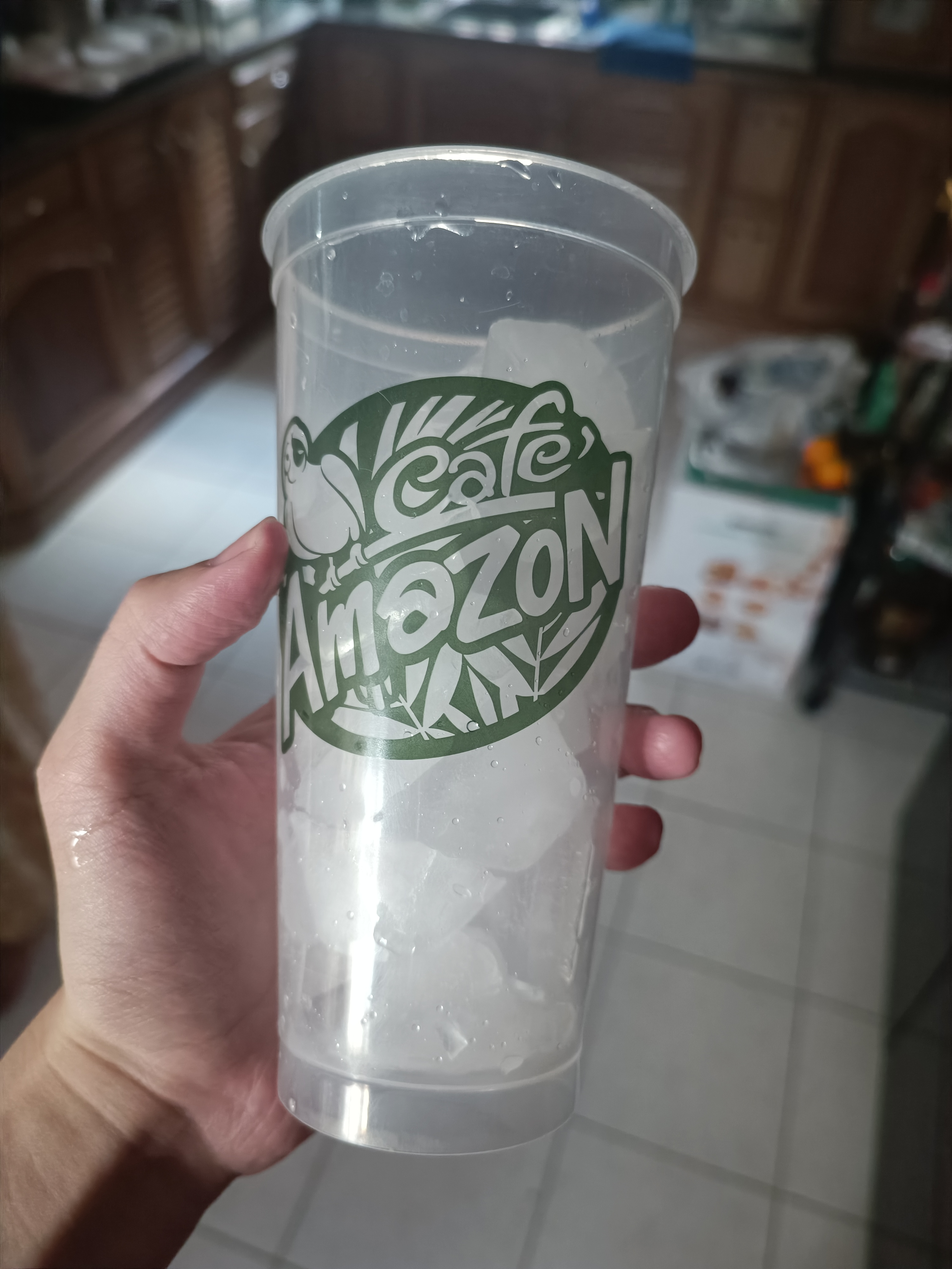plastic: (243, 141, 708, 1171)
